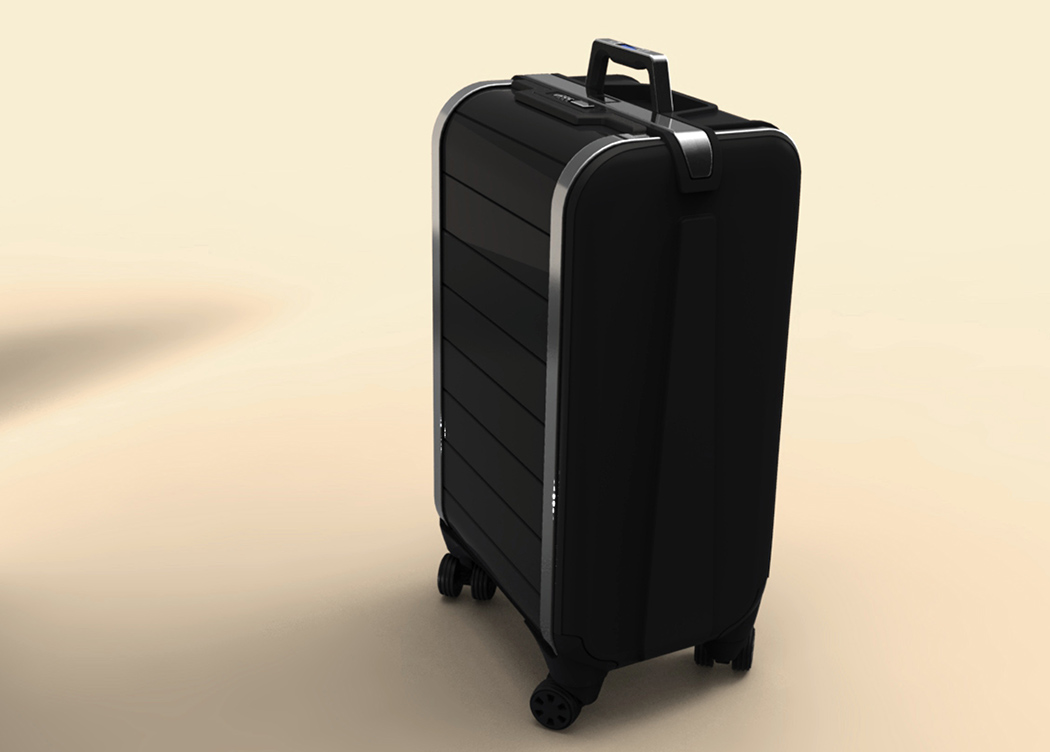box: (433, 74, 802, 673)
handle: (586, 38, 674, 113)
lock: (535, 85, 601, 114)
wheel: (694, 623, 756, 673), (436, 552, 497, 600), (529, 677, 581, 731)
